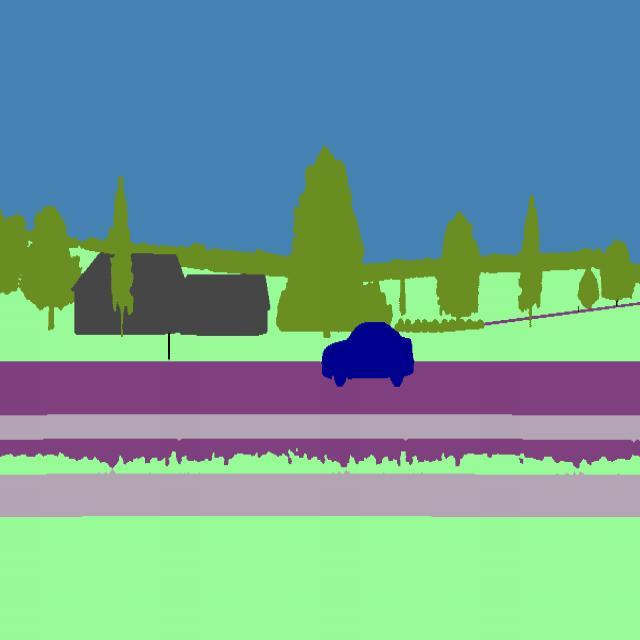safe: (316, 309, 418, 391)
